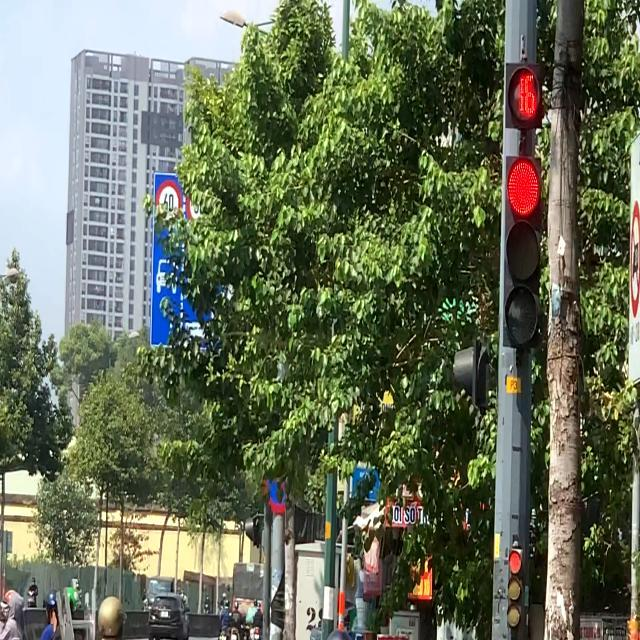Toc do toi da cho phep: (155, 180, 182, 228)
